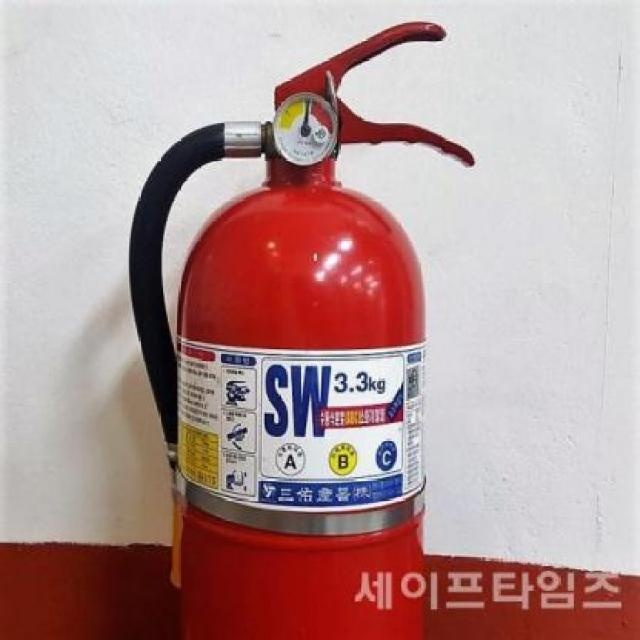fire extinguisher: (127, 20, 475, 640)
